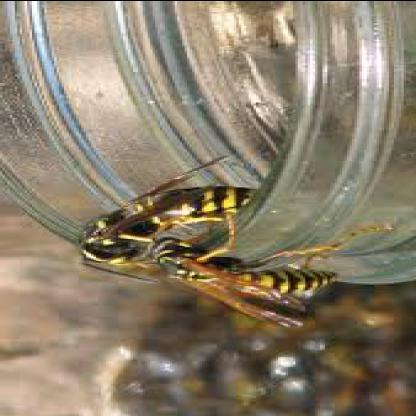other: (148, 226, 362, 308)
